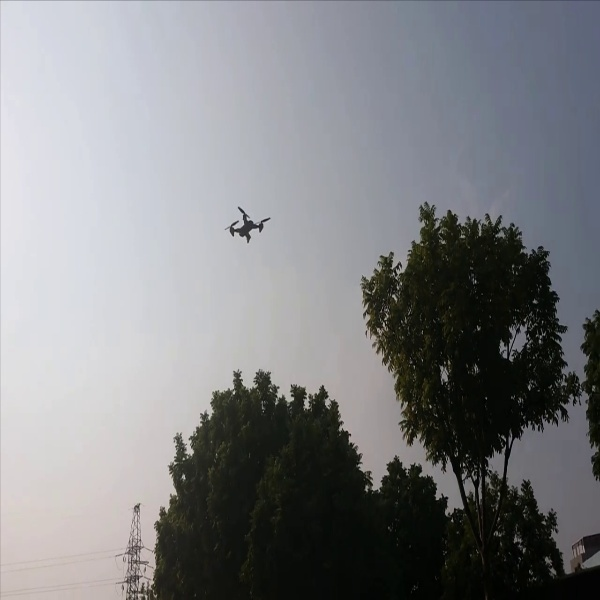drone: (218, 203, 274, 244)
